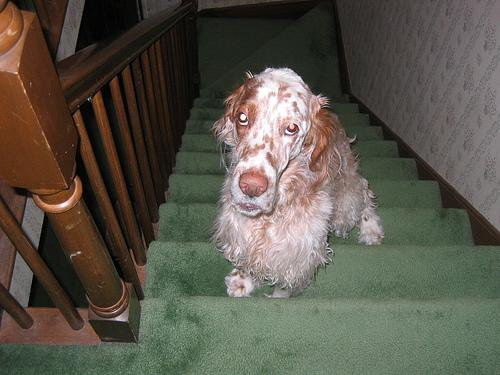dog-english_setter: (213, 66, 336, 216)
